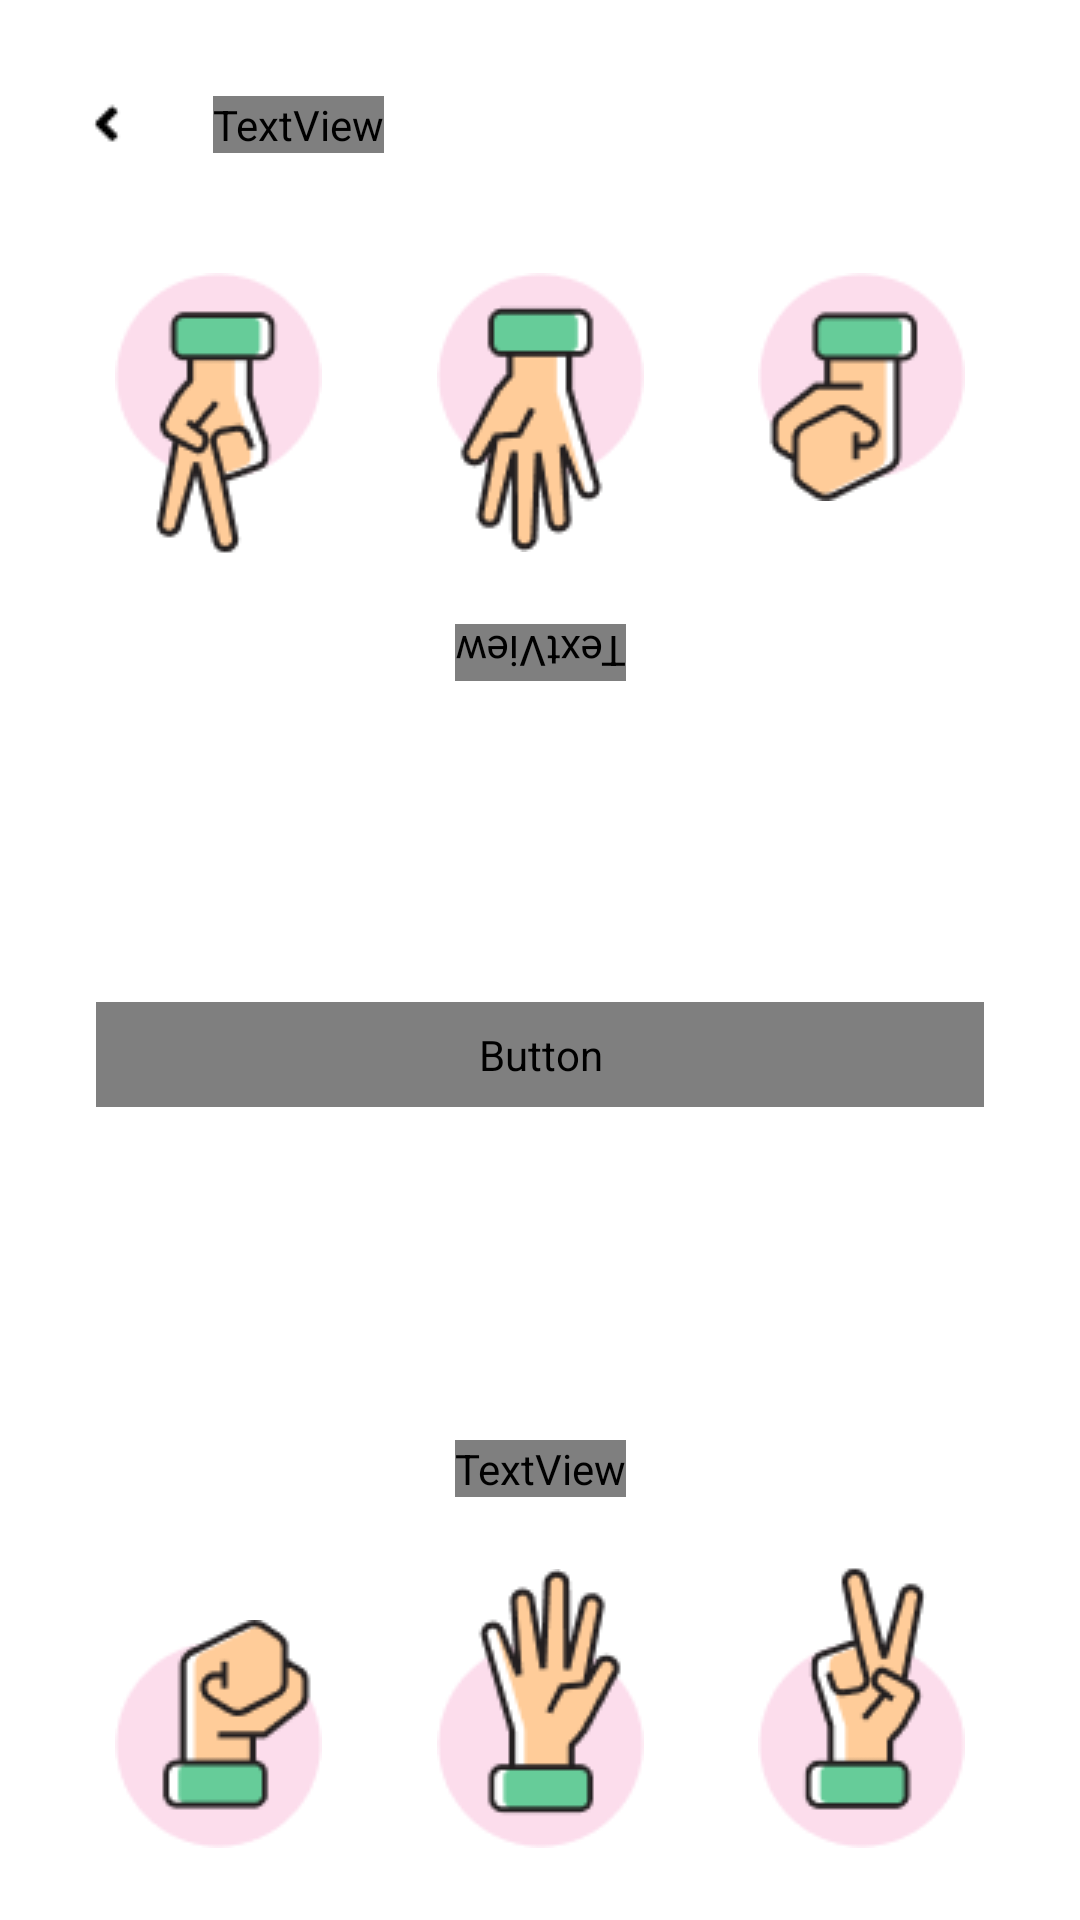

Icons on this 1080w x 1920h Android screen, each with its box as (x1, y1, x2, y2):
Icon Back: (95, 104, 118, 142)
